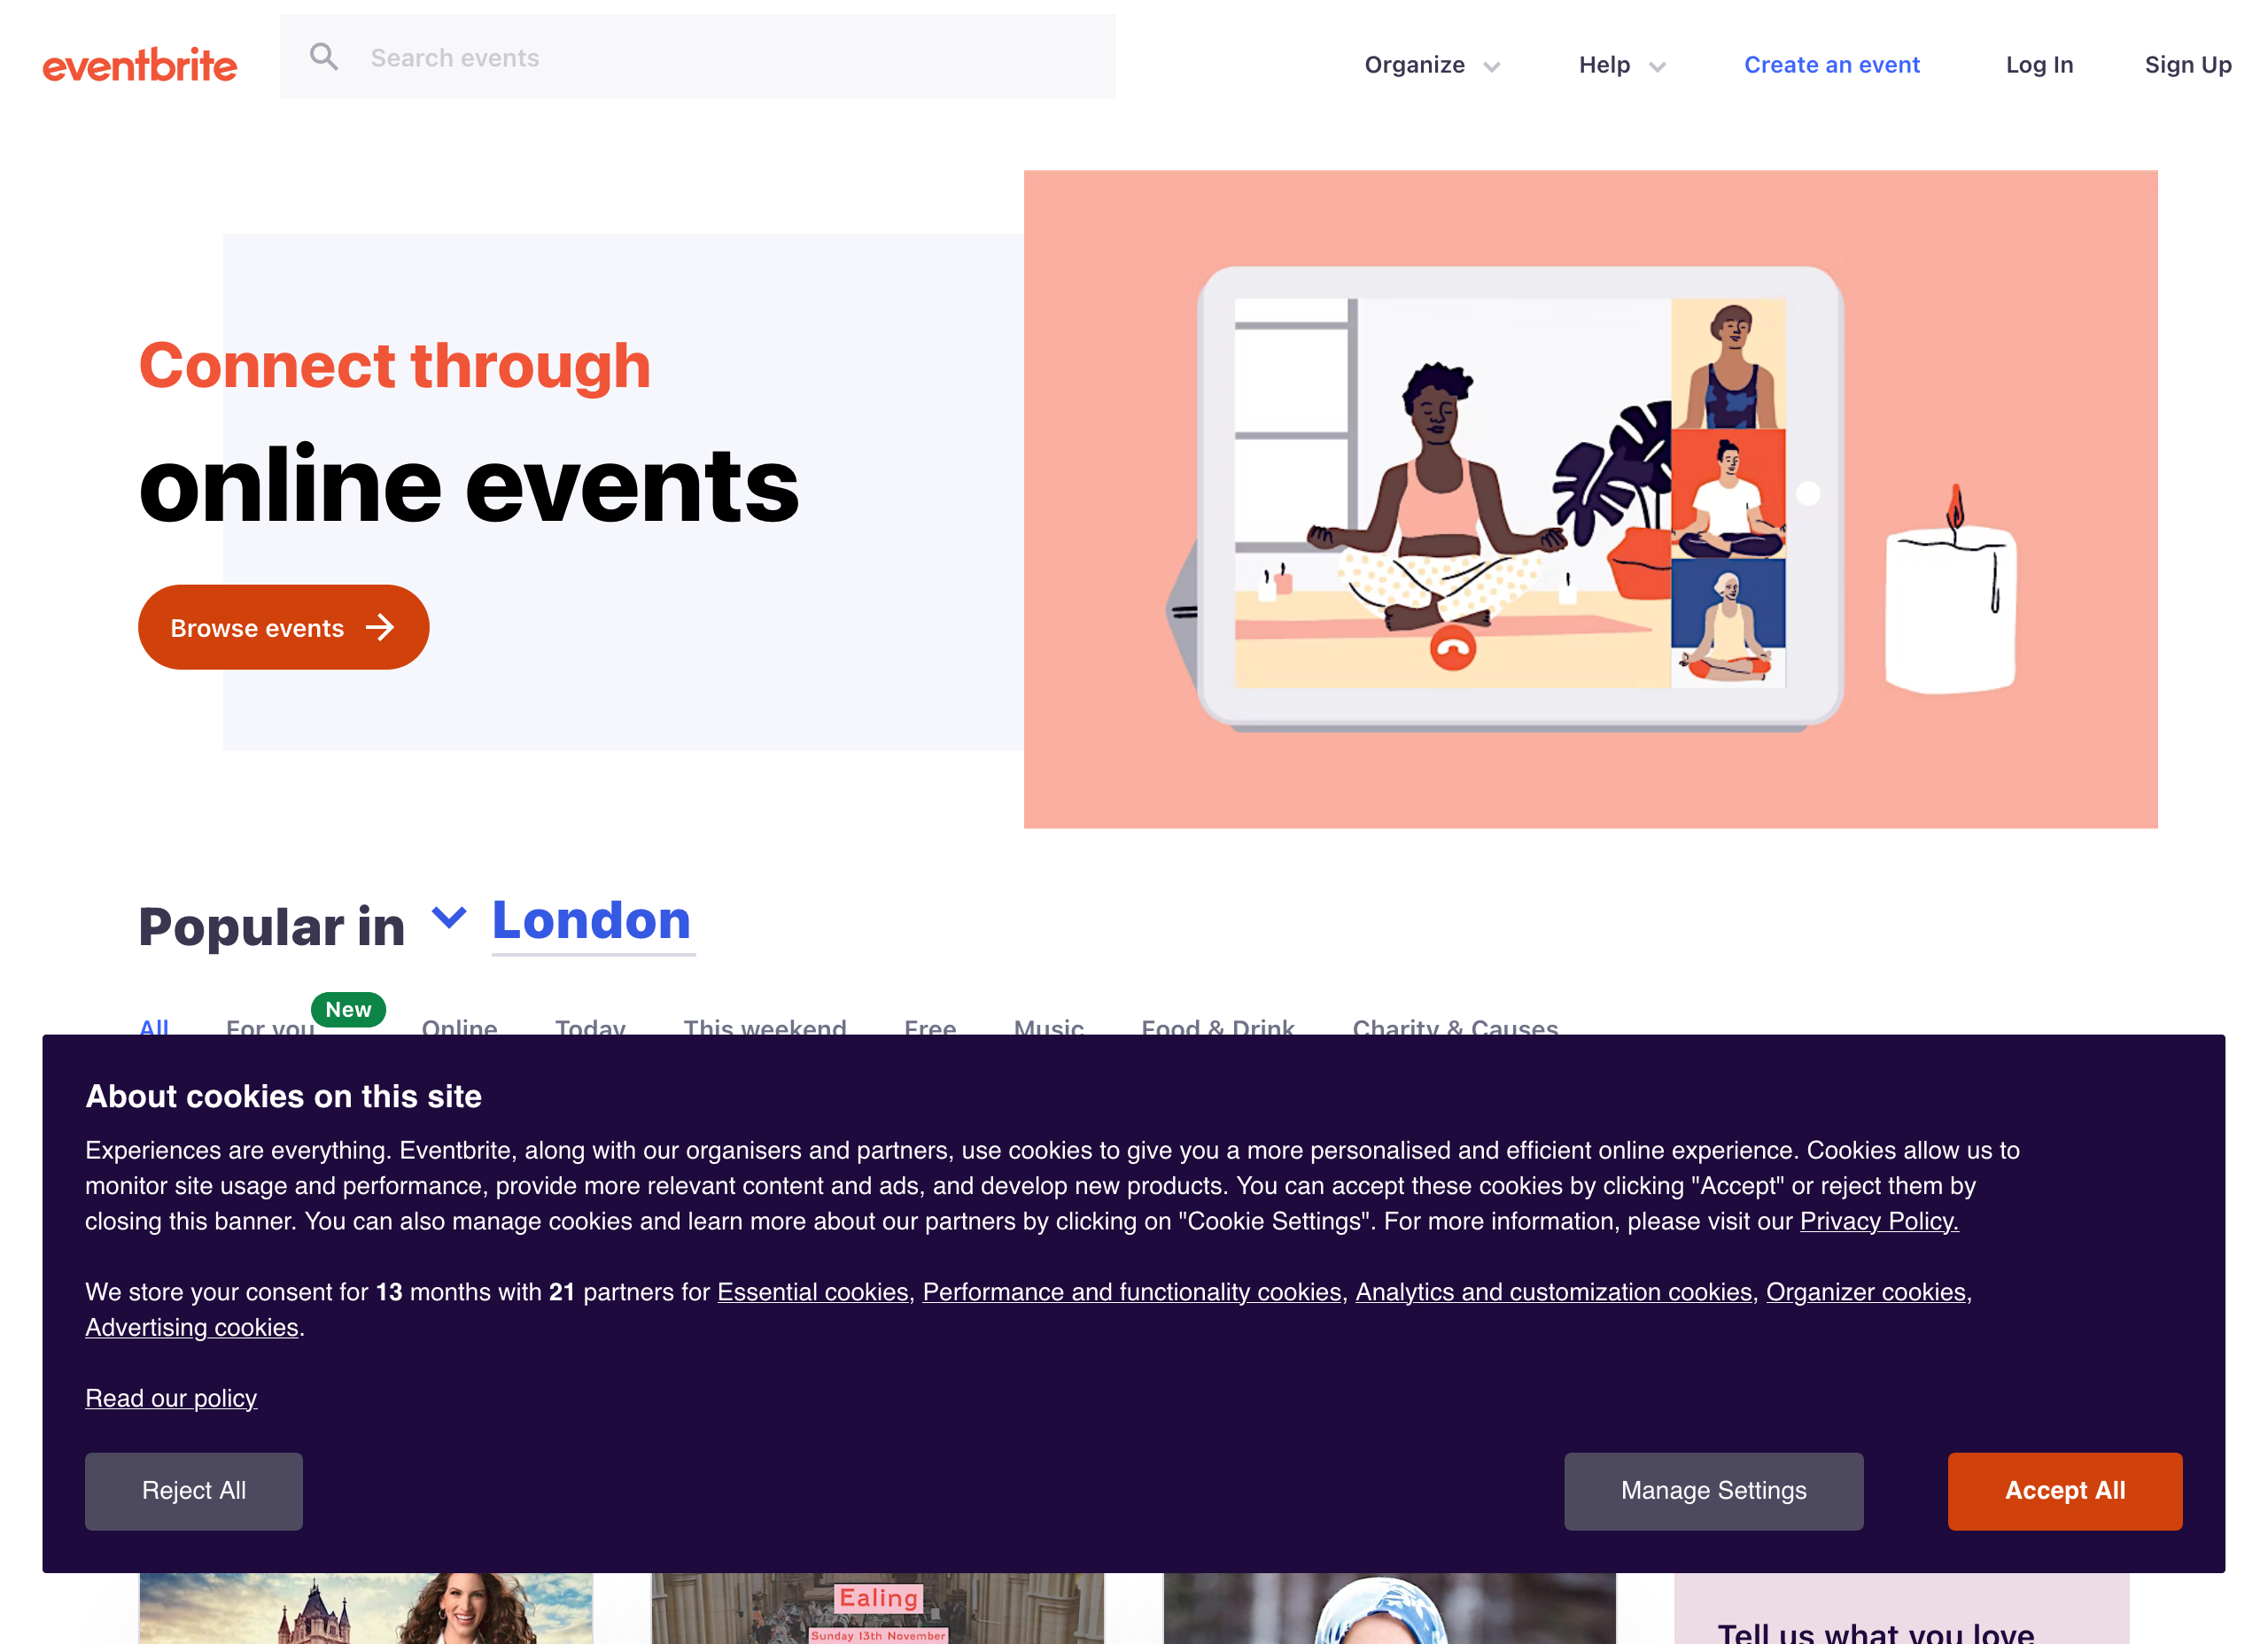Login: (1993, 39, 2092, 93)
